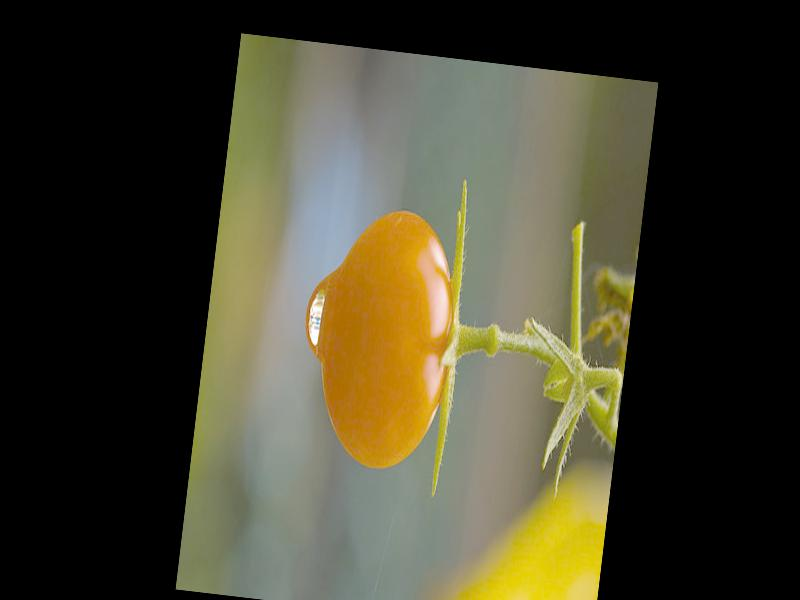Tomato: (309, 200, 466, 473)
